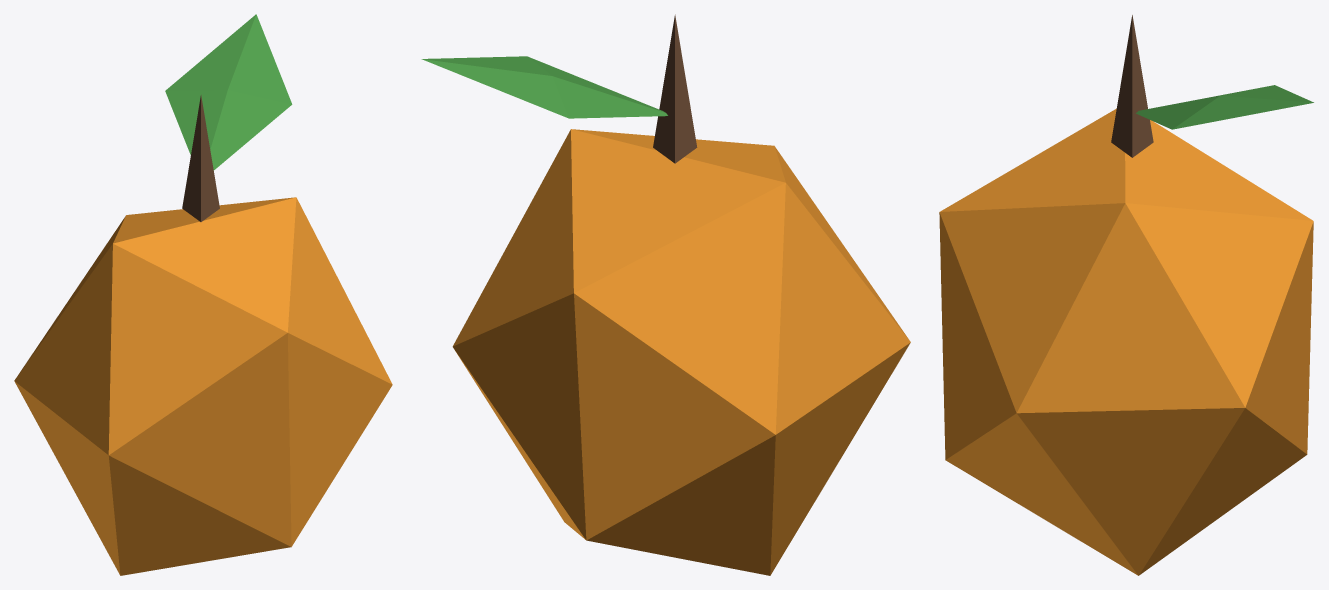
File: food_fruit_a.obj
The picture shows the model from 3 angles, left to right: view 1: azimuth 30°, elevation 25°; view 2: azimuth 150°, elevation 25°; view 3: azimuth 270°, elevation 25°; orthographic projection. The views are drawn at different scales.
Parts seen in each view (by area): view 1: food_fruit_a; view 2: food_fruit_a; view 3: food_fruit_a.
Part boxes in pixels (bbox=[...]): food_fruit_a: bbox=[14, 14, 392, 575]; food_fruit_a: bbox=[421, 14, 910, 575]; food_fruit_a: bbox=[939, 15, 1313, 575].
Size of the model in its own units: 0.7583 by 1.16 by 0.7632.
